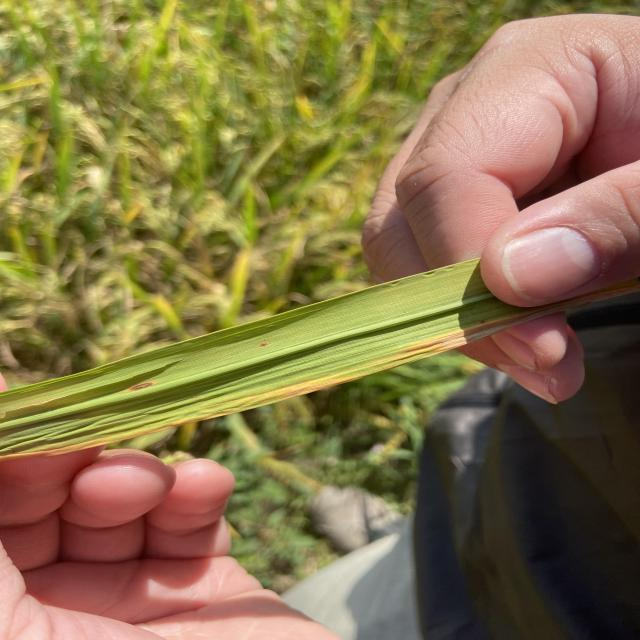Dom nau: (130, 382, 153, 390), (260, 344, 265, 347)
